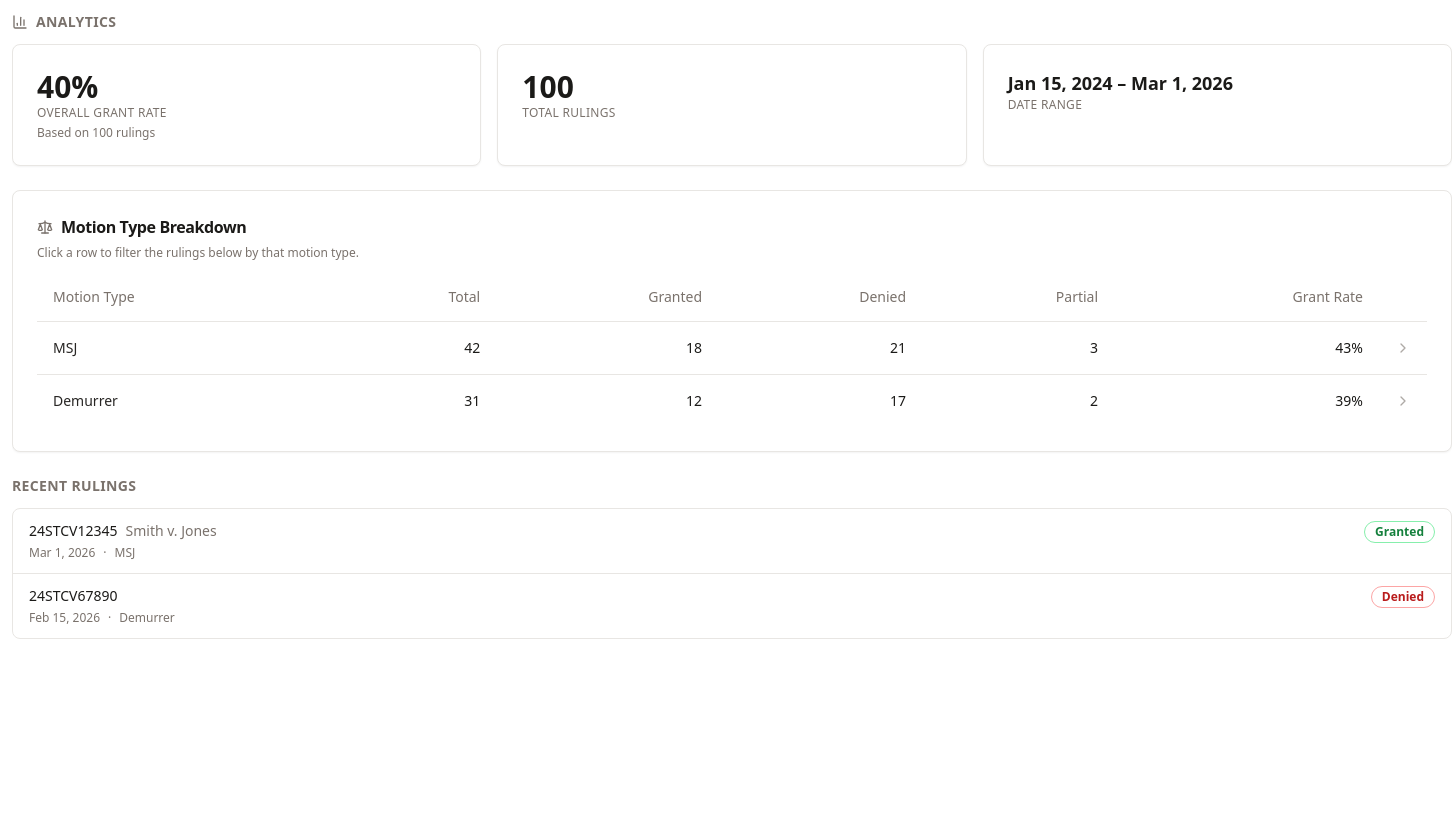
Scenario: JudgeProfile › clears filter when clicking the same motion type row again (toggle)
The image size is (1452, 822).
Expected: the heading "Motion Type Breakdown" is shown, [37, 216, 246, 238]
# Click to activate filter
Click the button "MSJ 42 18 21 3 43%": (212, 346) [37, 321, 1427, 374]
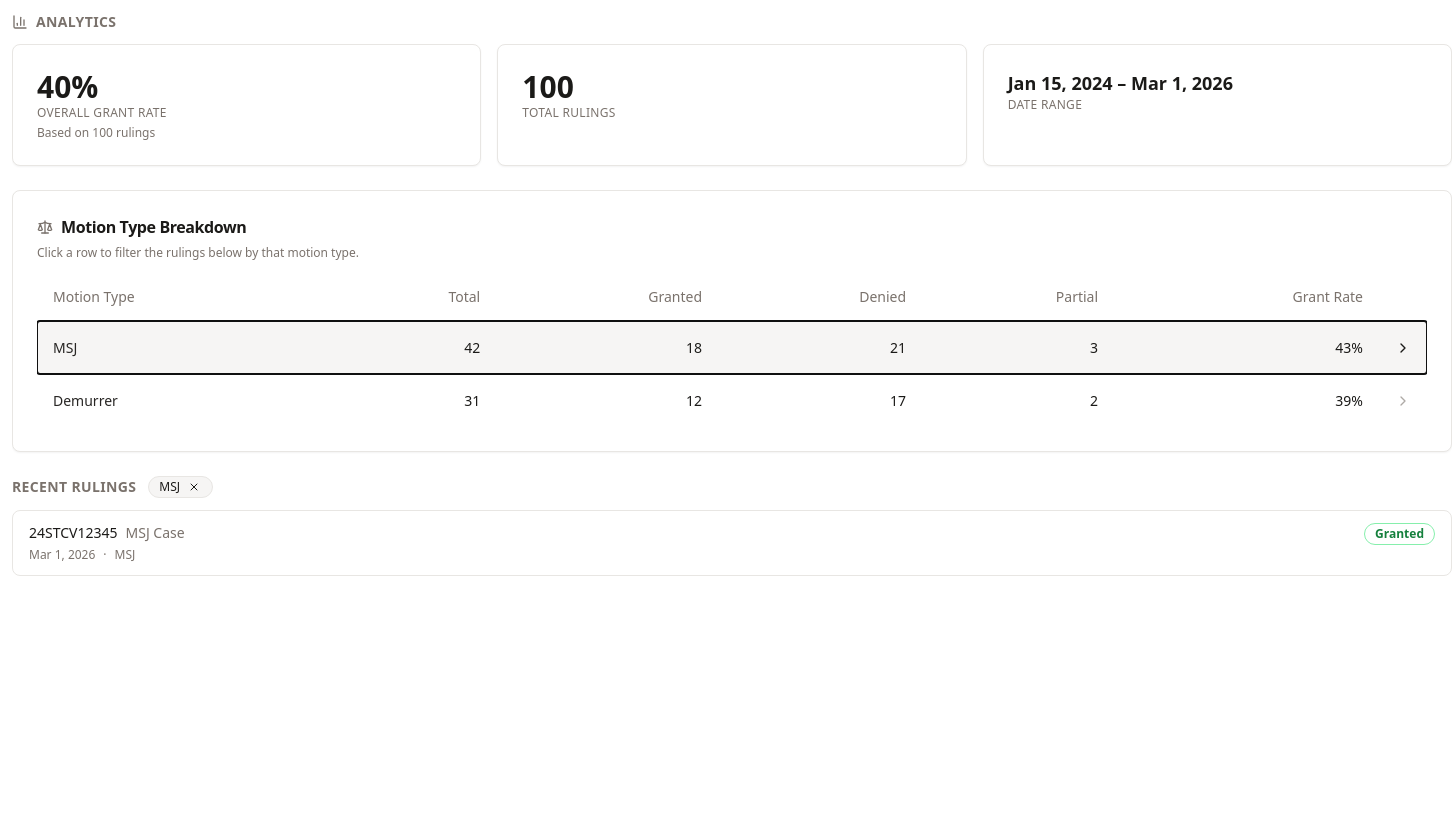
Expected: the element with test id "motion-type-filter-pill" is shown, [148, 476, 213, 498]
# Click again to clear filter
Click the button "MSJ 42 18 21 3 43%": (249, 346) [37, 321, 1427, 374]
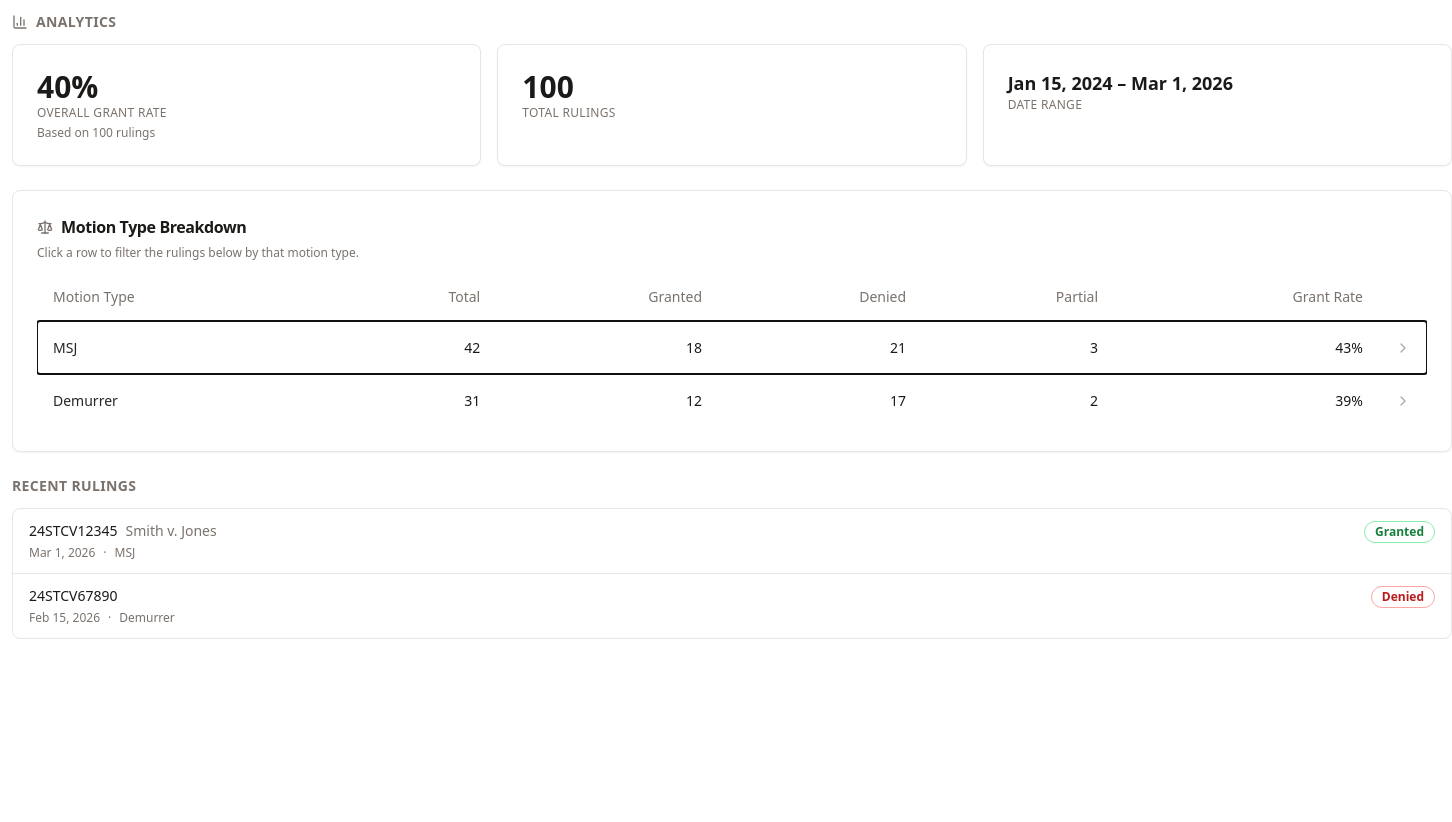
Expected: the element with test id "motion-type-filter-pill" is gone
